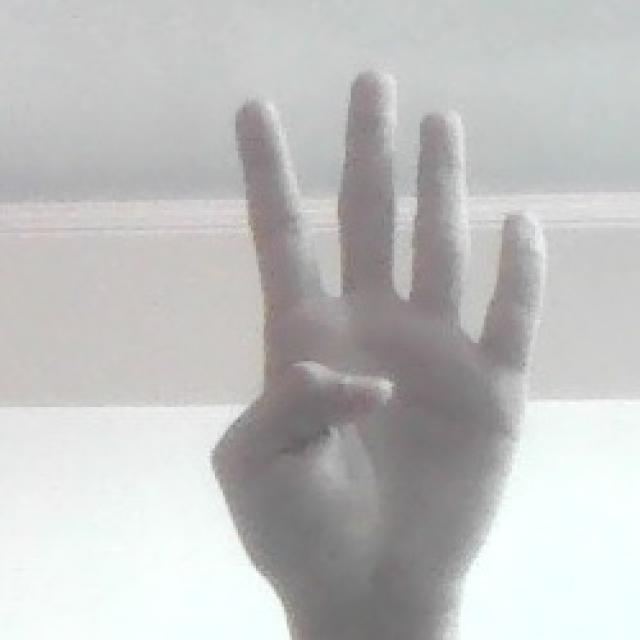Numeric-4: (231, 68, 547, 606)
